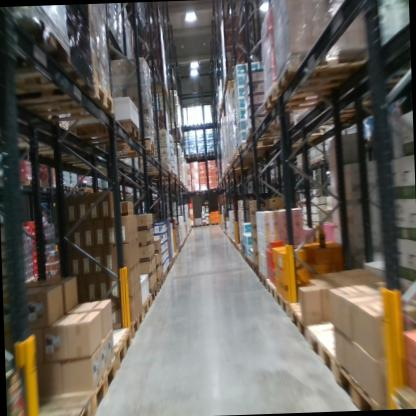pallet: (89, 186, 259, 279), (11, 81, 122, 129), (37, 356, 117, 415), (7, 60, 102, 105), (1, 14, 75, 69), (276, 52, 374, 92), (333, 354, 388, 409), (262, 82, 365, 110), (307, 322, 347, 390), (83, 327, 132, 379), (291, 297, 336, 351), (68, 119, 143, 149), (236, 134, 331, 157), (245, 122, 331, 142), (22, 393, 91, 416), (105, 309, 145, 342), (102, 138, 158, 160), (273, 281, 291, 323), (133, 292, 154, 321), (142, 161, 171, 180), (258, 270, 270, 295), (266, 278, 276, 302), (149, 285, 158, 304), (155, 277, 164, 291), (63, 181, 72, 193), (164, 263, 171, 278), (78, 186, 92, 193), (161, 270, 168, 283), (315, 157, 324, 166), (209, 187, 222, 193), (206, 151, 215, 158), (71, 185, 80, 192), (197, 153, 206, 159), (169, 259, 174, 269), (309, 158, 316, 165), (212, 221, 220, 227), (189, 154, 197, 160), (194, 223, 202, 228), (192, 189, 200, 194), (200, 189, 209, 193), (202, 223, 210, 227), (185, 154, 189, 161)
